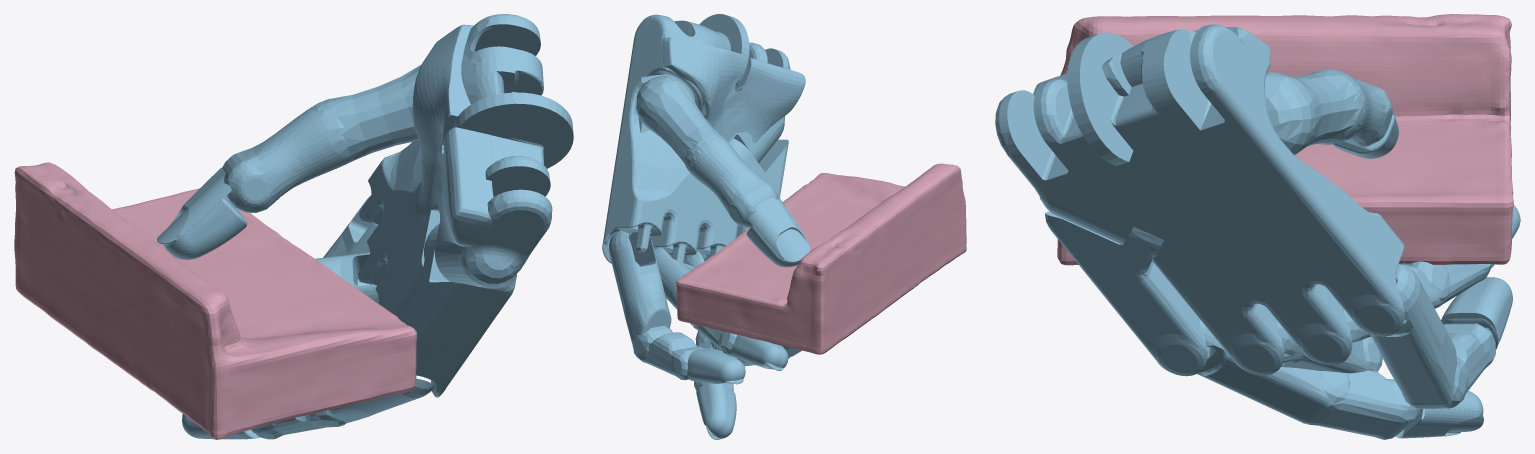
The picture shows the model from 3 angles, left to right: view 1: azimuth 30°, elevation 25°; view 2: azimuth 150°, elevation 25°; view 3: azimuth 270°, elevation 25°; orthographic projection. The views are drawn at different scales.
Parts seen in each view (by area): view 1: hand_isaac_q, world; view 2: hand_isaac_q, world; view 3: hand_isaac_q, world.
Boxes of the visible parts, <box> form: hand_isaac_q: <box>157,14,573,439</box>; world: <box>14,162,416,439</box>; hand_isaac_q: <box>602,14,810,439</box>; world: <box>676,163,966,354</box>; hand_isaac_q: <box>995,24,1520,439</box>; world: <box>1057,14,1513,265</box>.
Size of the model in its own units: 0.1468 by 0.163 by 0.1522.
